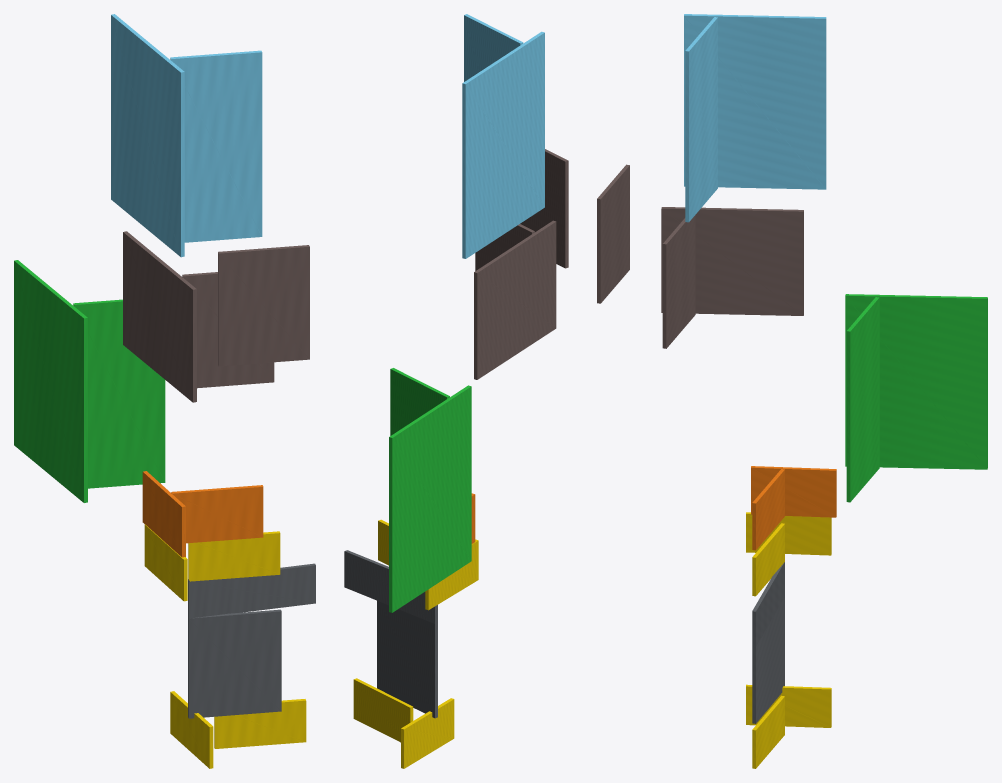
File: Main.glb
The picture shows the model from 3 angles, left to right: view 1: azimuth 30°, elevation 25°; view 2: azimuth 150°, elevation 25°; view 3: azimuth 270°, elevation 25°; orthographic projection. The views are drawn at different scales.
Parts seen in each view (by area): view 1: Cube_10, Cube_11, Cube_07, Cube_06, Cube_14, Cube, Cube_09, Cube_01, Cube_03, Cube_08, Cube_02, Cube_12 (+3 smaller); view 2: Cube_07, Cube_11, Cube_09, Cube, Cube_14, Cube_01, Cube_12, Cube_13, Cube_06, Cube_10, Cube_04, Cube_08 (+1 smaller); view 3: Cube_07, Cube_11, Cube_09, Cube_06, Cube_10, Cube_08, Cube_14, Cube_05, Cube, Cube_13, Cube_04, Cube_03 (+3 smaller).
Part boxes in pixels (<box>): Cube_10: <box>170,50,262,242</box>; Cube_11: <box>111,14,184,257</box>; Cube_07: <box>14,260,87,502</box>; Cube_06: <box>73,299,165,488</box>; Cube_14: <box>218,245,309,366</box>; Cube: <box>188,609,281,718</box>; Cube_09: <box>123,231,196,402</box>; Cube_01: <box>188,563,315,618</box>; Cube_03: <box>171,485,263,543</box>; Cube_08: <box>182,272,274,388</box>; Cube_02: <box>188,531,280,581</box>; Cube_12: <box>214,699,306,748</box>; Cube_07: <box>389,385,471,612</box>; Cube_11: <box>462,31,544,258</box>; Cube_09: <box>474,220,556,379</box>; Cube: <box>377,600,437,718</box>; Cube_14: <box>520,149,568,268</box>; Cube_01: <box>344,550,437,623</box>; Cube_12: <box>353,678,413,742</box>; Cube_13: <box>401,698,454,768</box>; Cube_06: <box>390,368,449,435</box>; Cube_10: <box>464,14,523,81</box>; Cube_04: <box>425,539,478,610</box>; Cube_08: <box>475,224,534,270</box>; Cube_07: <box>845,294,987,469</box>; Cube_11: <box>684,14,826,189</box>; Cube_09: <box>661,207,803,315</box>; Cube_06: <box>846,297,879,502</box>; Cube_10: <box>685,17,717,222</box>; Cube_08: <box>662,215,695,348</box>; Cube_14: <box>597,164,629,303</box>; Cube_05: <box>751,466,836,517</box>; Cube: <box>752,597,784,723</box>; Cube_13: <box>746,684,831,727</box>; Cube_04: <box>746,512,831,555</box>; Cube_03: <box>752,469,784,550</box>.
Size of the model in its own units: 194 by 747 by 389.
1 material, 1 textured.
